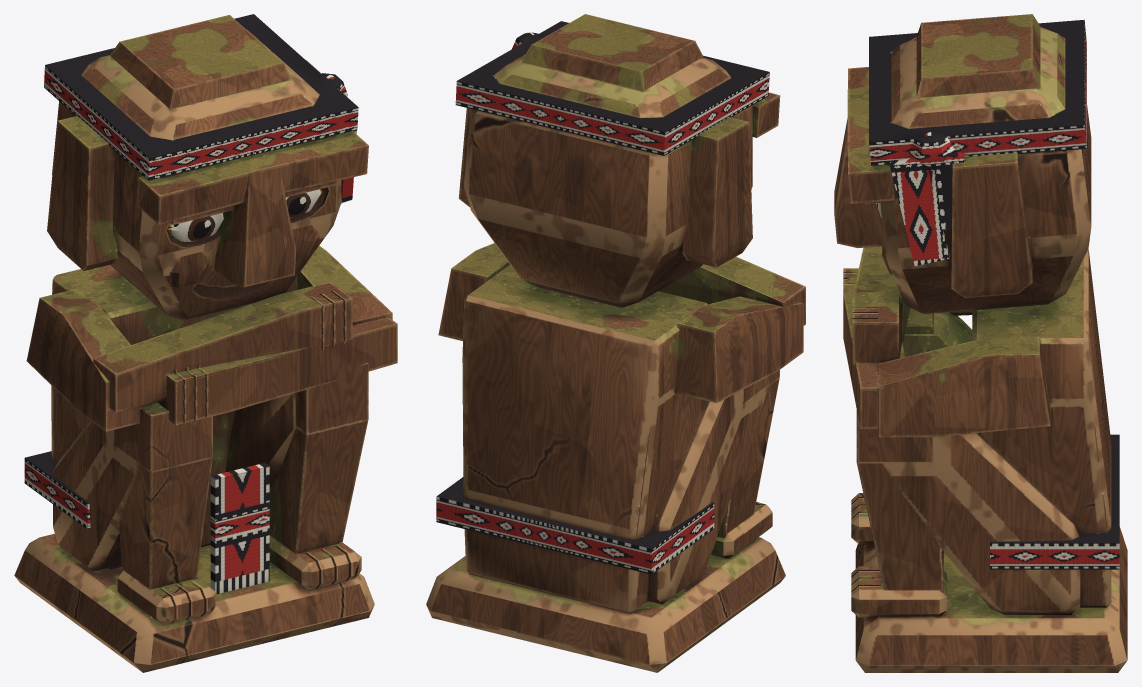
The model's file is bulul_small_m.glb.
3 renders of one model, left to right at view 1: azimuth 30°, elevation 25°; view 2: azimuth 150°, elevation 25°; view 3: azimuth 270°, elevation 25°, orthographic. The views are drawn at different scales.
Parts seen in each view (by area): view 1: bulul_small_m; view 2: bulul_small_m; view 3: bulul_small_m.
Part boxes in pixels (x1,y1,x2,y2): bulul_small_m: (14,14,397,672); bulul_small_m: (426,14,805,672); bulul_small_m: (834,14,1127,672).
Bounding box in the file's own units: 0.6457 × 1.2 × 0.5547.
Materials: 1 (1 with a texture image).
